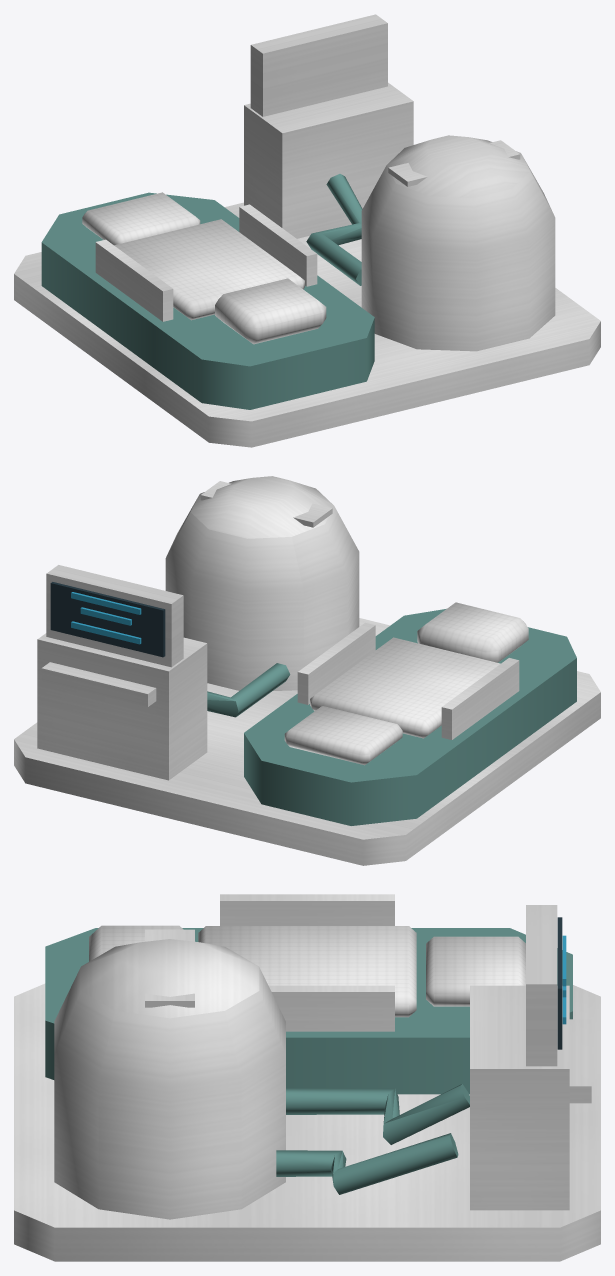
File: gene_extractor.obj
3 views of the same model, one above another, from view 1: azimuth 30°, elevation 25°; view 2: azimuth 150°, elevation 25°; view 3: azimuth 270°, elevation 25° (orthographic). The views are drawn at different scales.
Visible parts, largest first — view 1: source_component_007, source_component_000, source_component_001, source_component_012, source_component_013, source_component_002, source_component_003, source_component_004, source_component_005, source_component_006, source_component_010; view 2: source_component_007, source_component_000, source_component_001, source_component_012, source_component_002, source_component_013, source_component_014, source_component_004, source_component_003, source_component_005, source_component_006, source_component_018 (+4 smaller); view 3: source_component_007, source_component_000, source_component_012, source_component_001, source_component_002, source_component_004, source_component_005, source_component_006, source_component_010, source_component_013, source_component_011, source_component_018 (+4 smaller).
Part boxes in pixels (box(x1,y1,x2,y2)): source_component_007: box(361, 135, 555, 351); source_component_000: box(14, 202, 600, 447); source_component_001: box(41, 192, 374, 409); source_component_012: box(244, 82, 413, 238); source_component_013: box(250, 14, 387, 116); source_component_002: box(114, 219, 304, 320); source_component_003: box(215, 278, 326, 344); source_component_004: box(82, 192, 200, 245); source_component_005: box(95, 239, 173, 321); source_component_006: box(239, 204, 317, 286); source_component_010: box(306, 174, 362, 285); source_component_007: box(165, 476, 359, 690); source_component_000: box(14, 618, 600, 865); source_component_001: box(244, 608, 576, 825); source_component_012: box(37, 633, 207, 780); source_component_002: box(310, 637, 500, 738); source_component_013: box(46, 565, 183, 667); source_component_014: box(50, 582, 165, 657); source_component_004: box(284, 706, 402, 765); source_component_003: box(417, 602, 528, 662); source_component_005: box(441, 658, 519, 739); source_component_006: box(297, 622, 375, 704); source_component_018: box(41, 662, 156, 707); source_component_007: box(54, 939, 285, 1219); source_component_000: box(14, 983, 600, 1261); source_component_012: box(470, 985, 569, 1210); source_component_001: box(45, 928, 572, 1094); source_component_002: box(198, 926, 416, 1017); source_component_004: box(426, 936, 525, 1006); source_component_005: box(220, 894, 394, 925); source_component_006: box(269, 985, 394, 1031); source_component_010: box(286, 1084, 469, 1144); source_component_013: box(526, 905, 557, 1066); source_component_011: box(276, 1133, 458, 1194); source_component_018: box(569, 1019, 591, 1103).
Size of the model in its own units: 1.88 by 0.91 by 1.88.
